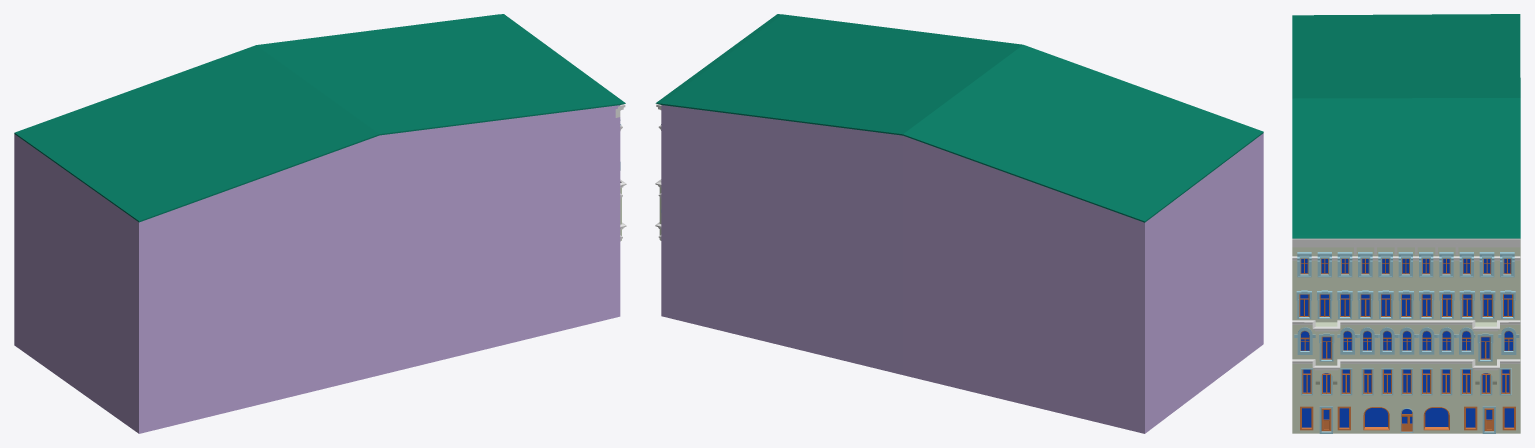
File: Building_02_01.fbx
The picture shows the model from 3 angles, left to right: view 1: azimuth 30°, elevation 25°; view 2: azimuth 150°, elevation 25°; view 3: azimuth 270°, elevation 25°; orthographic projection. The views are drawn at different scales.
Visible parts, largest first — view 1: 0_Corpus.001; view 2: 0_Corpus.001; view 3: 0_Corpus.001, Window 2 arr.001, Window 1 arr.001, Window 3 _ arr.001, BalconyBelt.016, Window 4 arr.001, Balcony.002, Window 5.012, Window 6.001, RoofHead4.002, Window 4 arr.002, Window 4 arr.036 (+10 smaller).
Part boxes in pixels (x1,y1,x2,y2): 0_Corpus.001: (14, 14, 625, 433); 0_Corpus.001: (655, 14, 1263, 433); 0_Corpus.001: (1292, 14, 1520, 433); Window 2 arr.001: (1296, 290, 1515, 318); Window 1 arr.001: (1297, 252, 1514, 277); Window 3 _ arr.001: (1337, 327, 1475, 354); BalconyBelt.016: (1292, 320, 1520, 370); Window 4 arr.001: (1361, 368, 1452, 395); Balcony.002: (1315, 322, 1496, 384); Window 5.012: (1300, 406, 1515, 430); Window 6.001: (1363, 407, 1449, 430); RoofHead4.002: (1292, 242, 1520, 247); Window 4 arr.002: (1460, 368, 1511, 395); Window 4 arr.036: (1301, 368, 1352, 395).
Bounding box in the file's own units: 13318 × 6126 × 5620.
